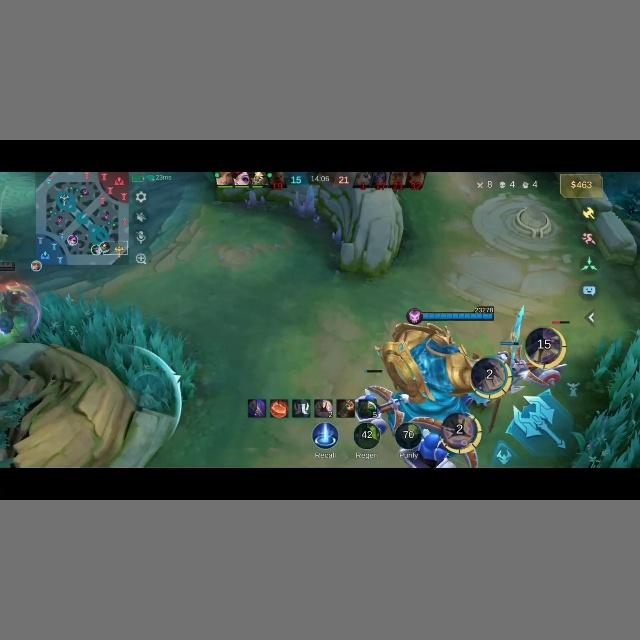hp_enemy: (540, 318, 571, 324), (0, 263, 16, 273)
hp_self: (404, 307, 496, 324), (500, 342, 520, 346), (363, 368, 381, 371)
